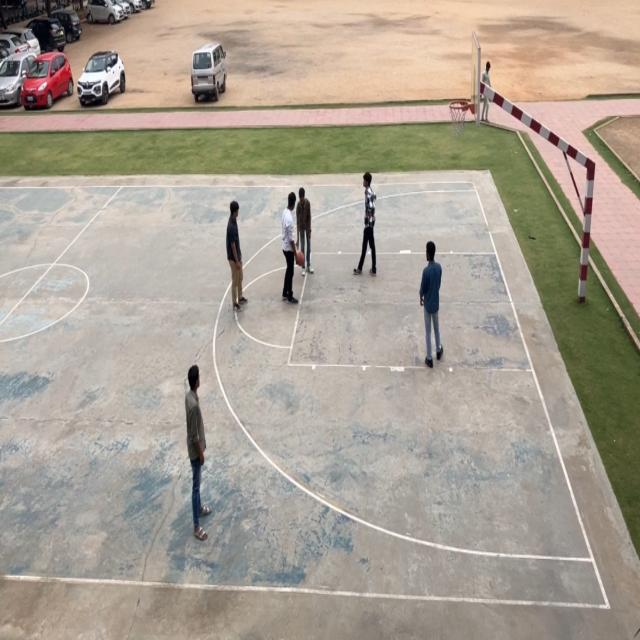basketball: (295, 251, 306, 268)
hoop: (448, 99, 468, 140)
